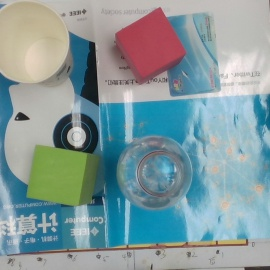bottle: (112, 133, 192, 211)
card: (165, 12, 221, 95)
cup: (1, 1, 85, 91)
